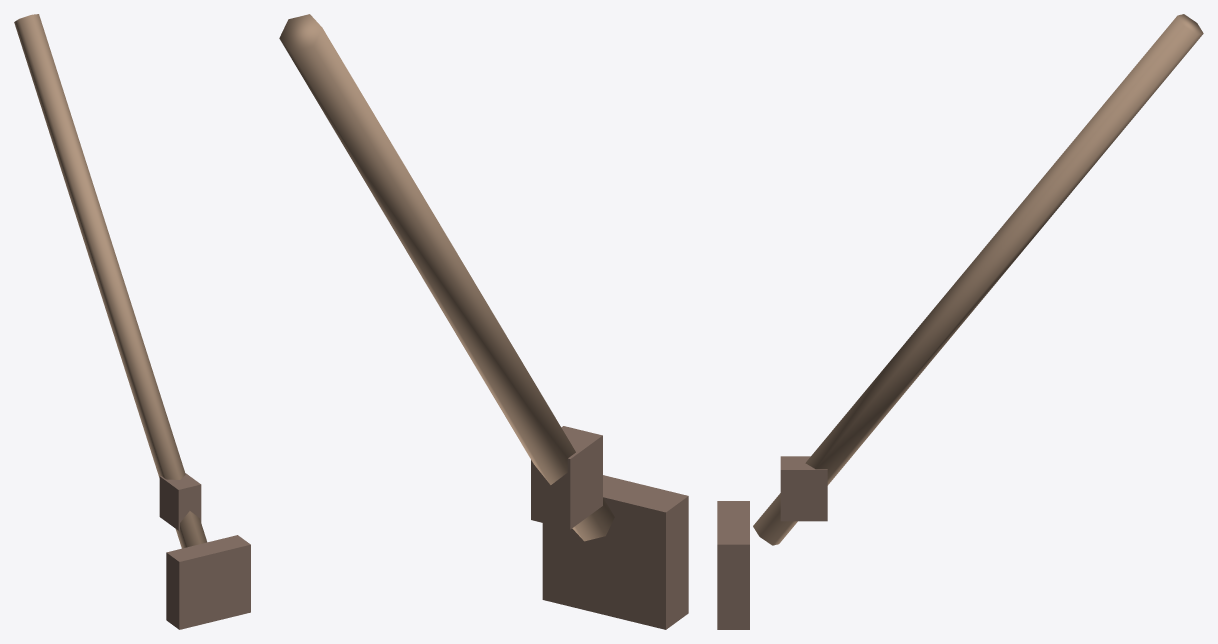
Rendered from hoe.glb.
The picture shows the model from 3 angles, left to right: view 1: azimuth 30°, elevation 25°; view 2: azimuth 150°, elevation 25°; view 3: azimuth 270°, elevation 25°; orthographic projection. The views are drawn at different scales.
Visible parts, largest first — view 1: hoe_wood, hoe_iron; view 2: hoe_wood, hoe_iron; view 3: hoe_wood, hoe_iron.
Part boxes in pixels (box(x1,y1,x2,y2)): hoe_wood: box(14, 14, 206, 548); hoe_iron: box(159, 473, 250, 629); hoe_wood: box(279, 14, 614, 541); hoe_iron: box(531, 426, 688, 629); hoe_wood: box(753, 14, 1203, 545); hoe_iron: box(717, 456, 827, 629).
Size of the model in its own units: 0.22 by 1.39 by 1.03.
